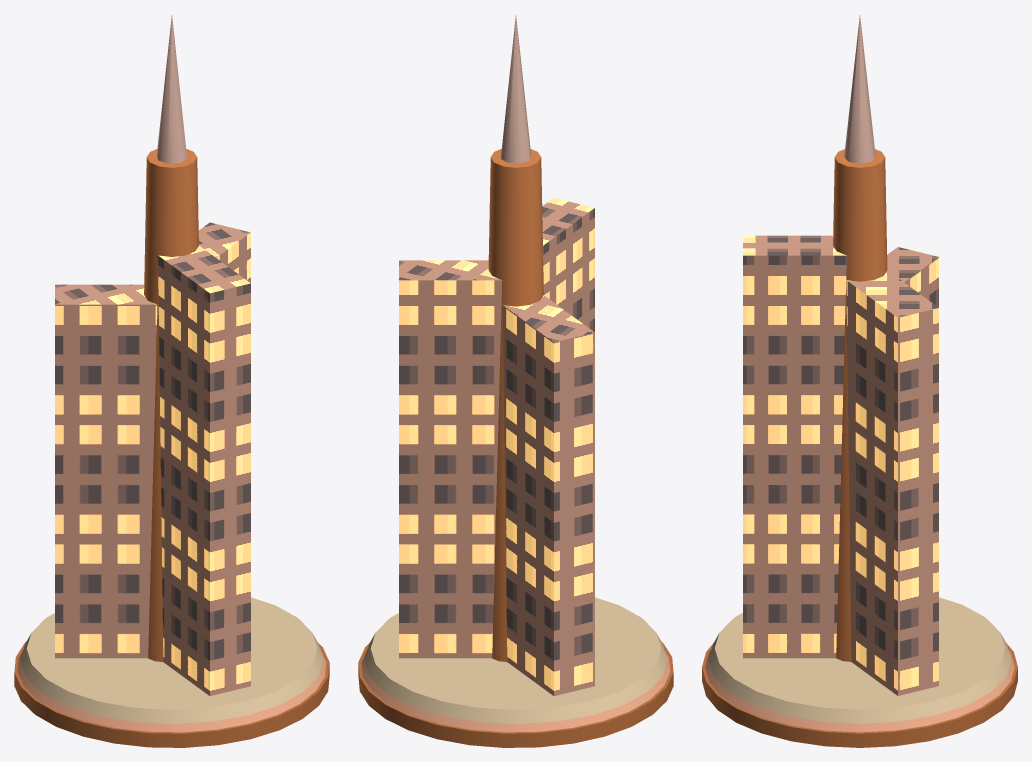
File: tier-15-desert-needle.glb
3 renders of one model, left to right at view 1: azimuth 30°, elevation 25°; view 2: azimuth 150°, elevation 25°; view 3: azimuth 270°, elevation 25°, orthographic.
Parts seen in each view (by area): view 1: window, matte, gloss; view 2: window, matte, gloss; view 3: window, matte, gloss.
Boxes of the visible parts, bbox=[...] form: window: bbox=[55, 222, 250, 695]; matte: bbox=[14, 597, 329, 747]; gloss: bbox=[144, 15, 198, 661]; window: bbox=[399, 198, 594, 695]; matte: bbox=[358, 597, 673, 747]; gloss: bbox=[488, 15, 543, 661]; window: bbox=[743, 235, 938, 695]; matte: bbox=[702, 597, 1017, 747]; gloss: bbox=[833, 15, 887, 661].
Bounding box in the file's own units: 1 × 2.33 × 1.
Materials: 3 (1 with a texture image).
